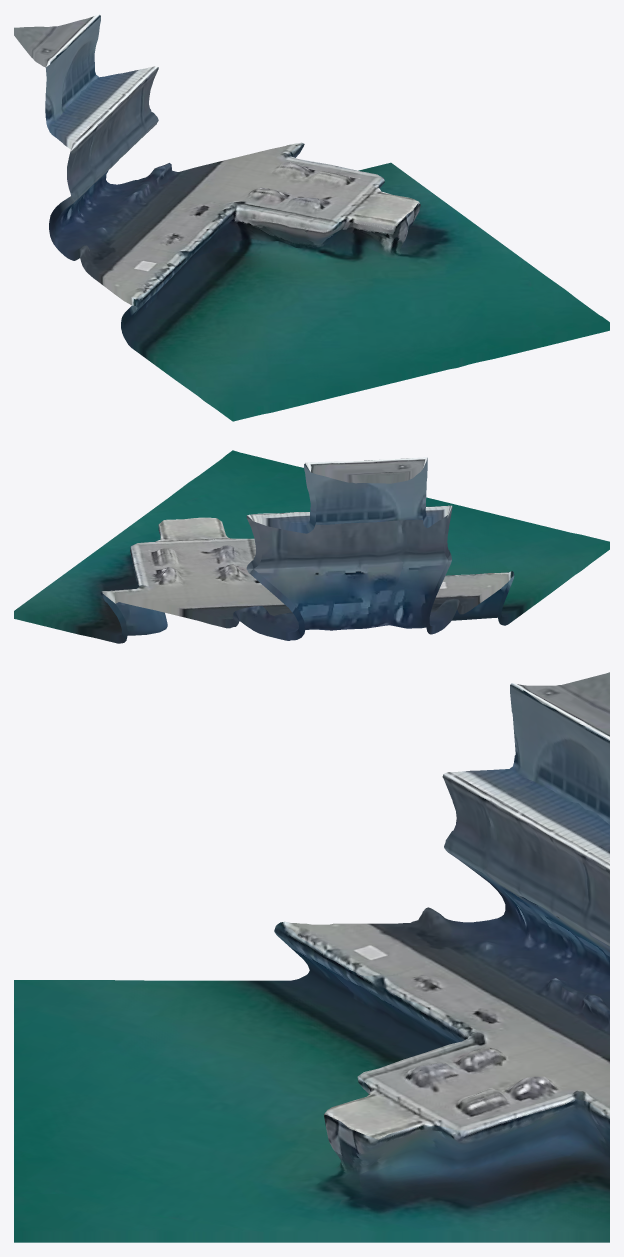
File: z20-167791-405218-h0-yup-uvflip-v3-world.glb
The picture shows the model from 3 angles, top to bottom: view 1: azimuth 30°, elevation 25°; view 2: azimuth 150°, elevation 25°; view 3: azimuth 270°, elevation 25°; orthographic projection. The views are drawn at different scales.
Bounding box in the file's own units: 30.16 × 17.96 × 30.32.
1 material, 1 textured.
